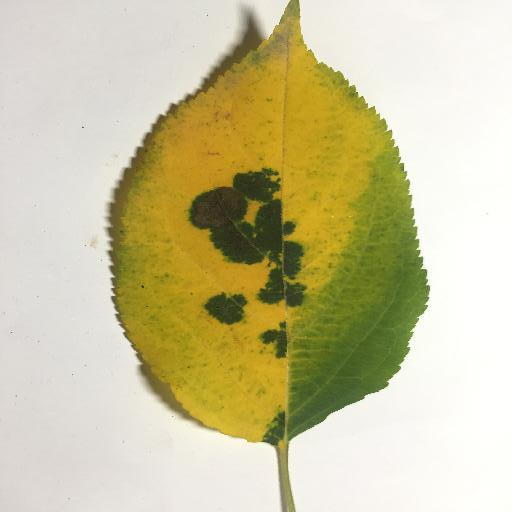Brown_Spot: (195, 189, 242, 224)
